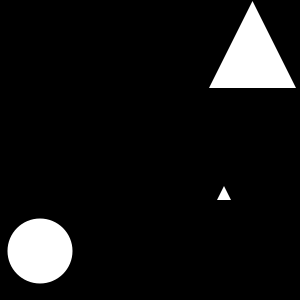rectangle: (7, 218, 72, 284)
triangle: (209, 1, 296, 88), (217, 186, 231, 200)
